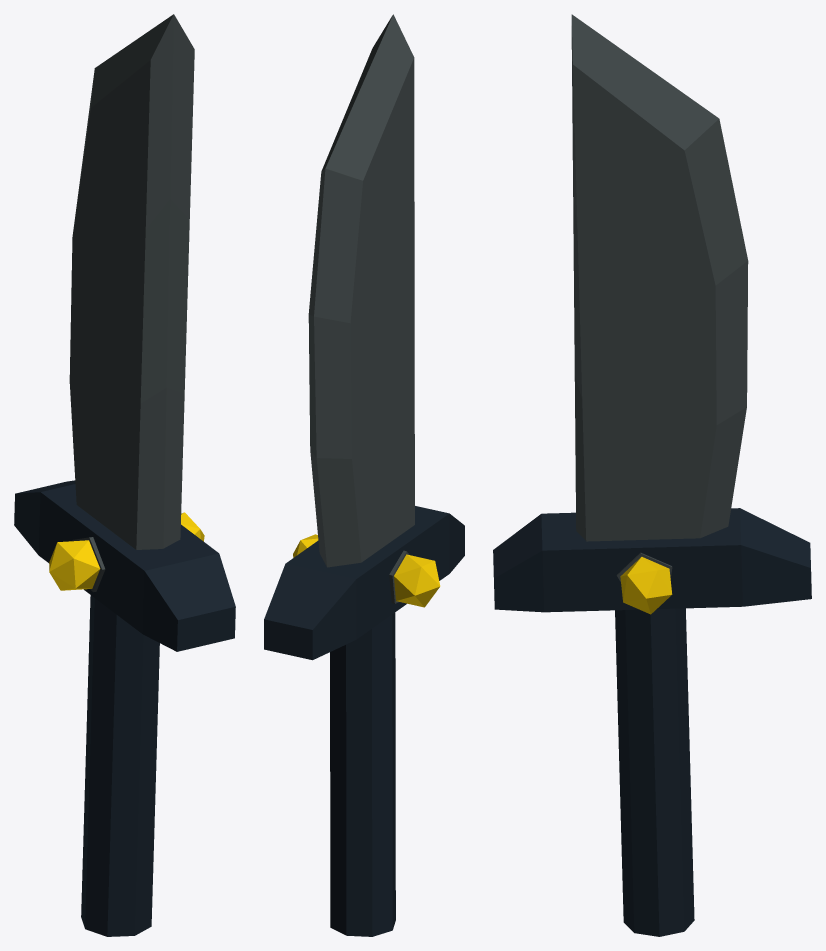
File: Dagger1.fbx
The picture shows the model from 3 angles, left to right: view 1: azimuth 30°, elevation 25°; view 2: azimuth 150°, elevation 25°; view 3: azimuth 270°, elevation 25°; orthographic projection. The views are drawn at different scales.
Parts seen in each view (by area): view 1: Cube.022; view 2: Cube.022; view 3: Cube.022.
Part boxes in pixels (<box>): Cube.022: <box>14,14,235,936</box>; Cube.022: <box>264,14,464,936</box>; Cube.022: <box>493,14,811,936</box>.
Bounding box in the file's own units: 0.0975 × 0.1766 × 0.5587.
